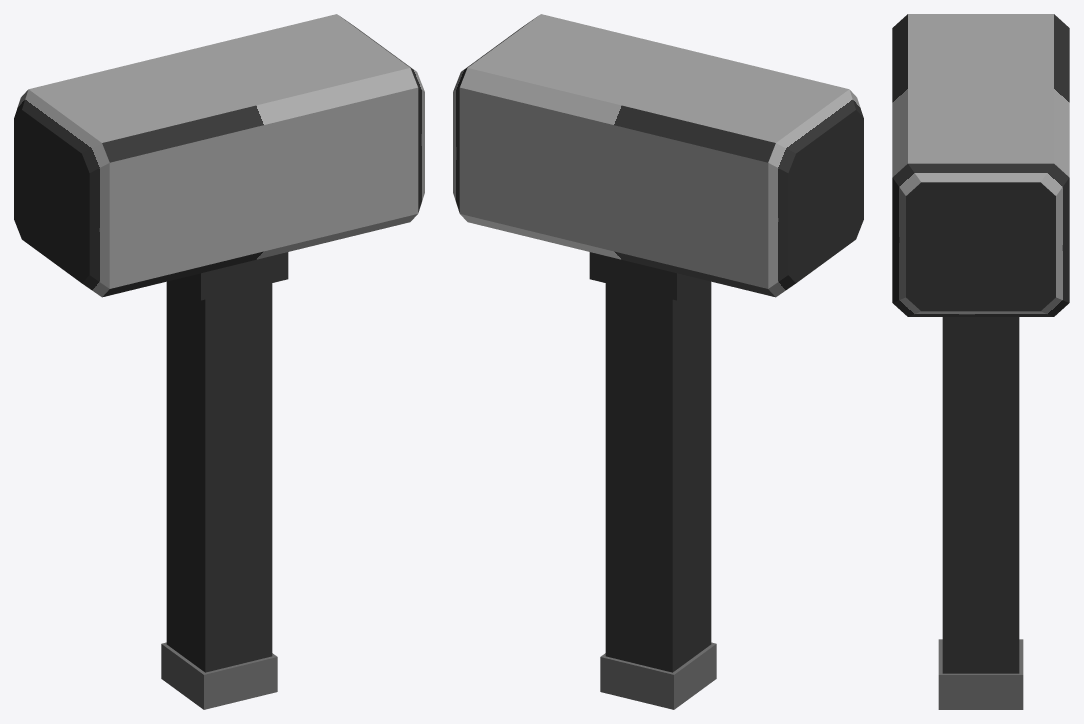
The model's file is littletiles_hammer.obj.
3 renders of one model, left to right at view 1: azimuth 30°, elevation 25°; view 2: azimuth 150°, elevation 25°; view 3: azimuth 270°, elevation 25°, orthographic.
Visible parts, largest first — view 1: head, shaft, end_cap, socket; view 2: head, shaft, end_cap, socket; view 3: head, shaft, end_cap.
Part boxes in pixels (x1,y1,x2,y2): head: [14, 14, 424, 297]; shaft: [166, 280, 272, 672]; end_cap: [161, 642, 277, 709]; socket: [173, 252, 288, 300]; head: [453, 14, 863, 297]; shaft: [605, 280, 711, 672]; end_cap: [600, 642, 716, 709]; socket: [589, 252, 704, 300]; head: [892, 14, 1069, 316]; shaft: [942, 317, 1019, 673]; end_cap: [938, 639, 1023, 709].
Bounding box in the file's own units: 0.625 × 1.08 × 0.2875.
